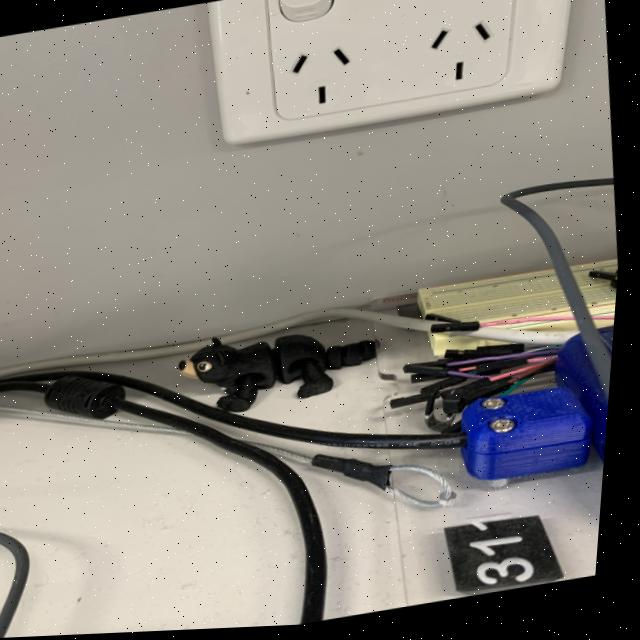tassie devil: (157, 300, 399, 427)
